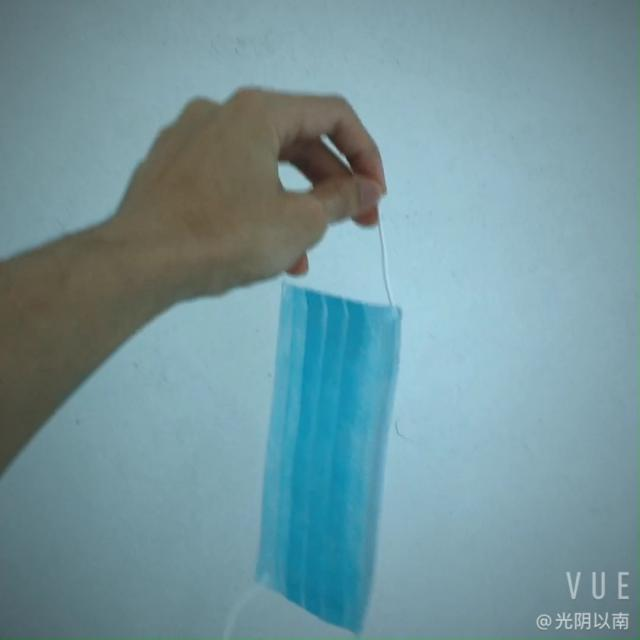non-organic waste: (252, 281, 408, 629)
